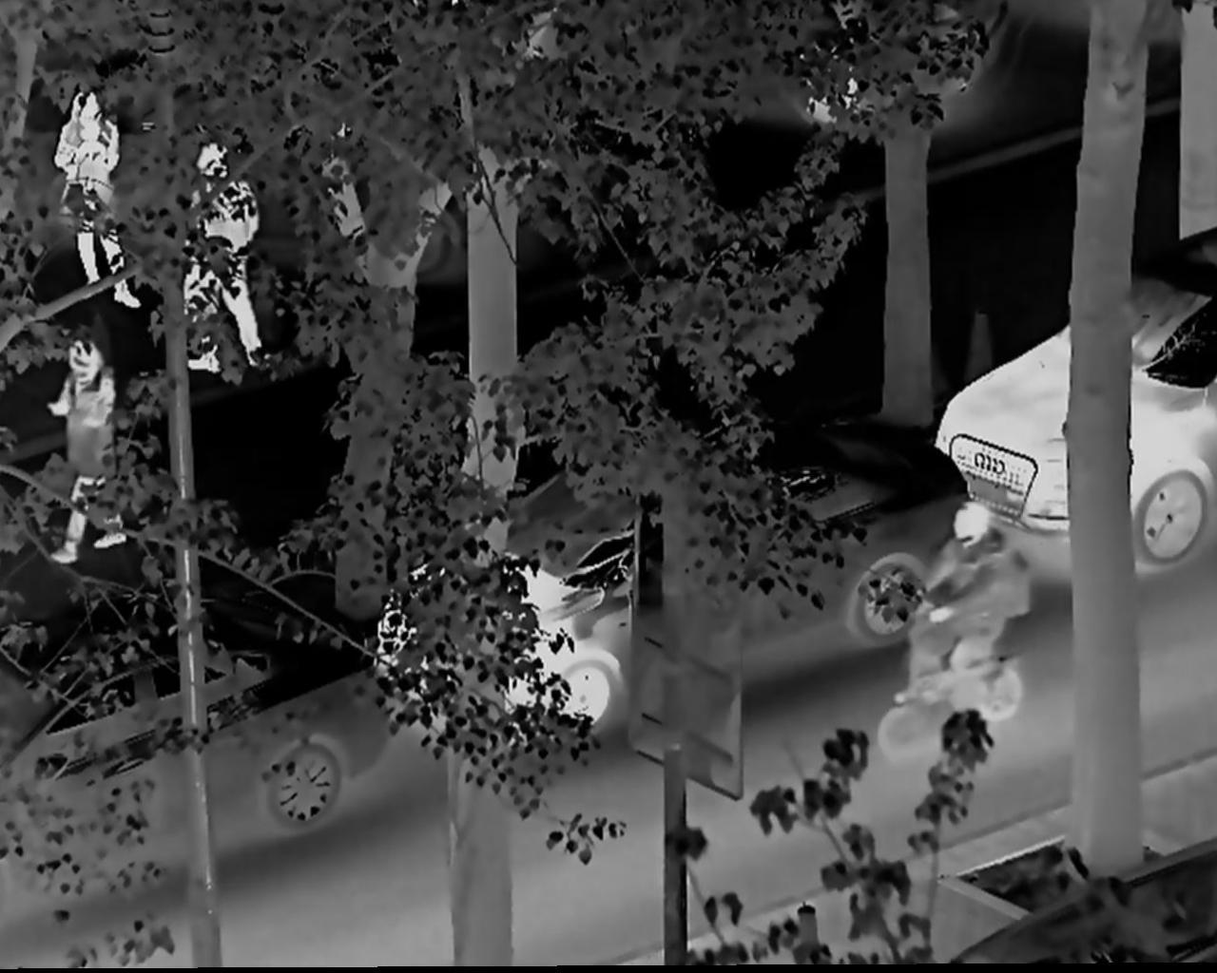person: (915, 502, 1036, 754), (175, 130, 272, 391), (37, 334, 140, 568), (45, 79, 143, 317)
